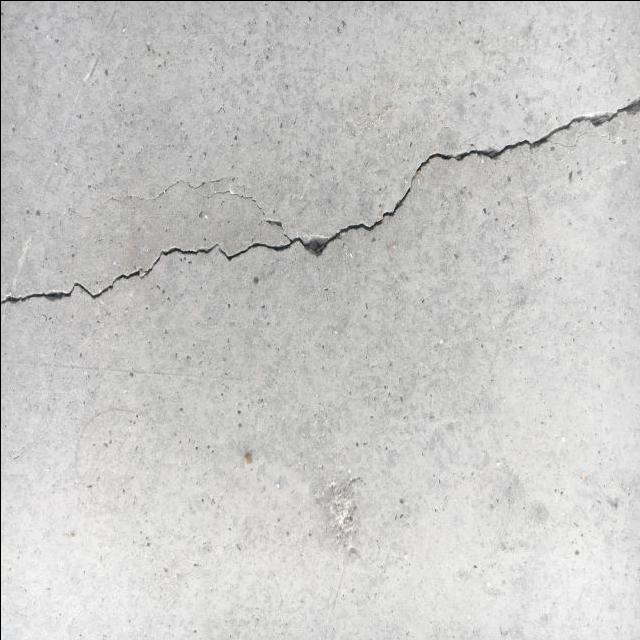SurfaceCrack: (0, 87, 639, 352)
